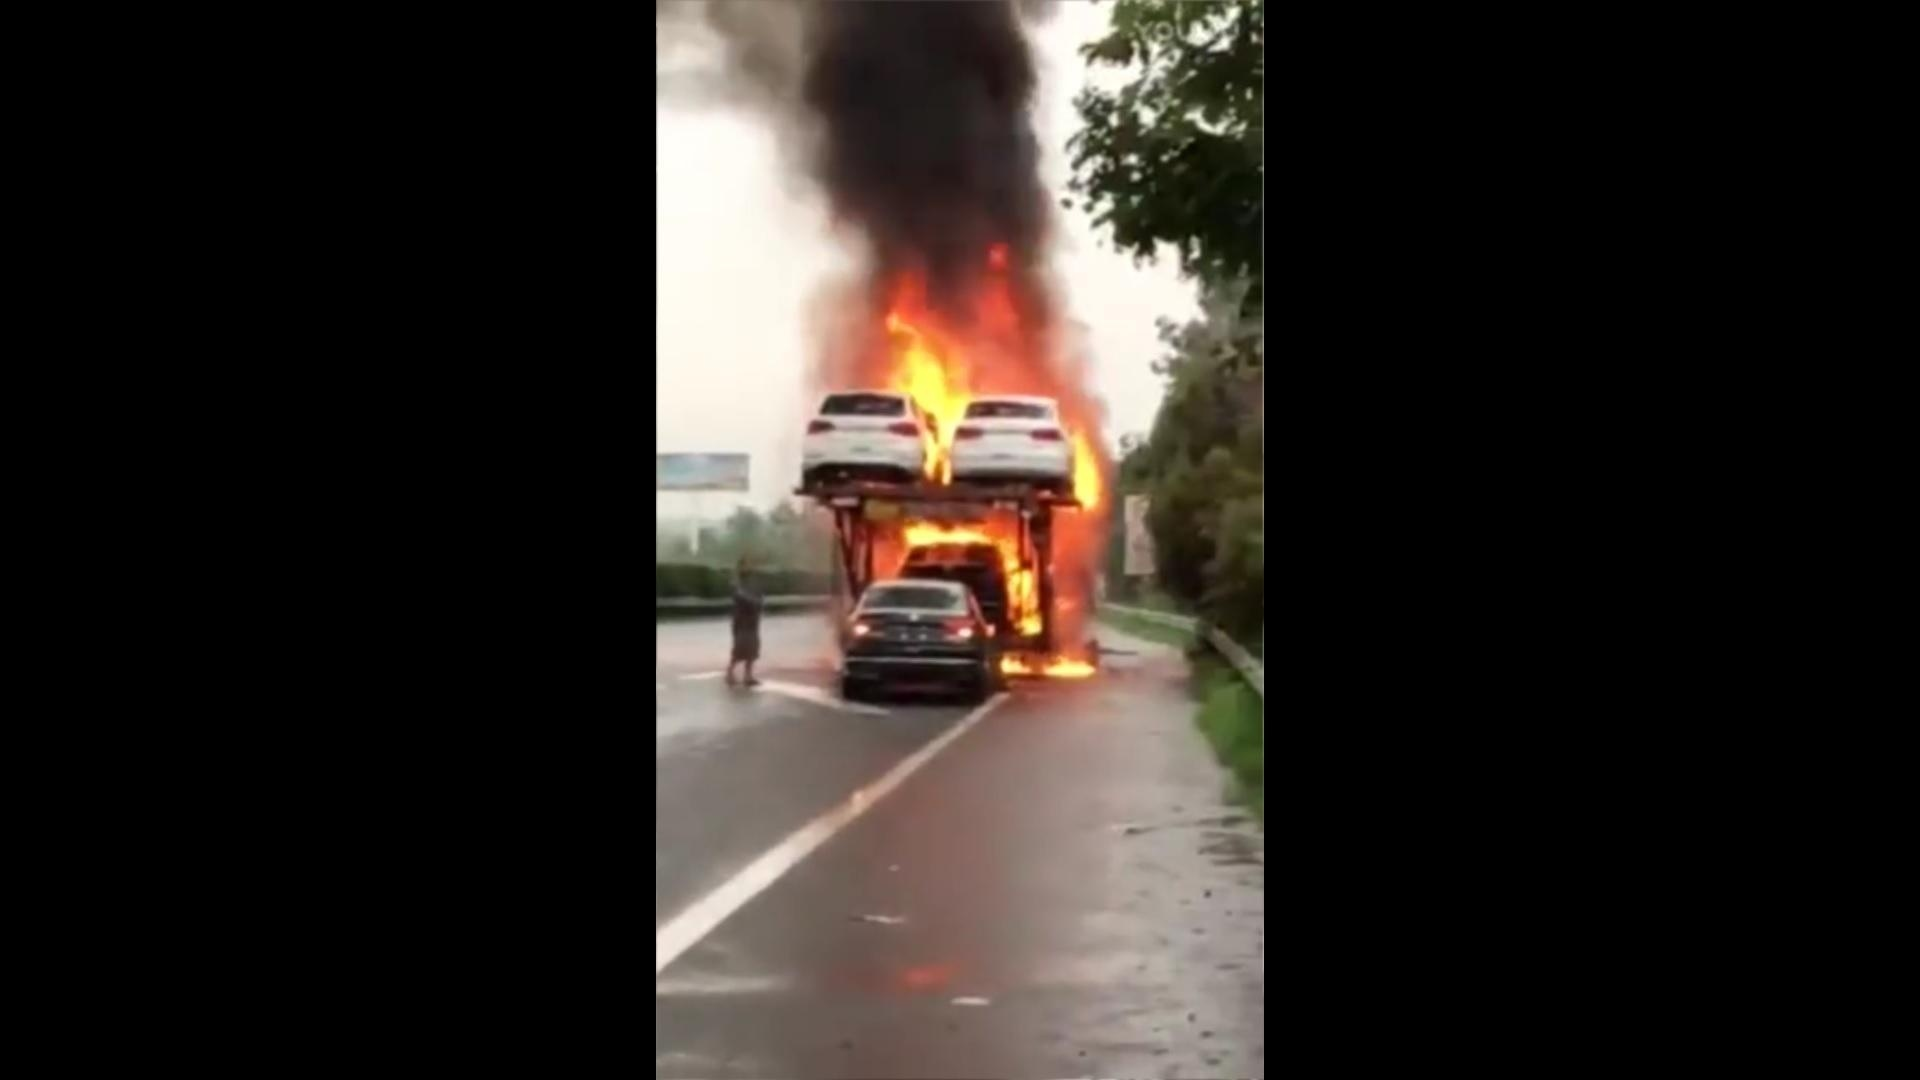fire: (856, 272, 1112, 683)
